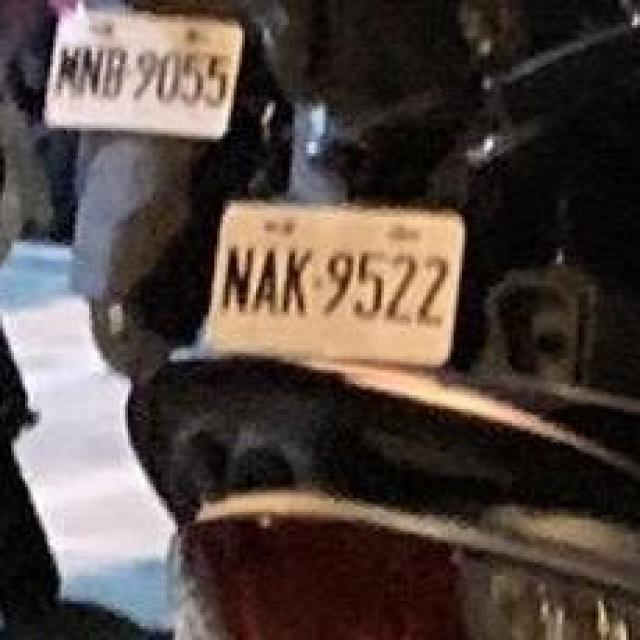W: (184, 172, 487, 418), (31, 3, 256, 161)
